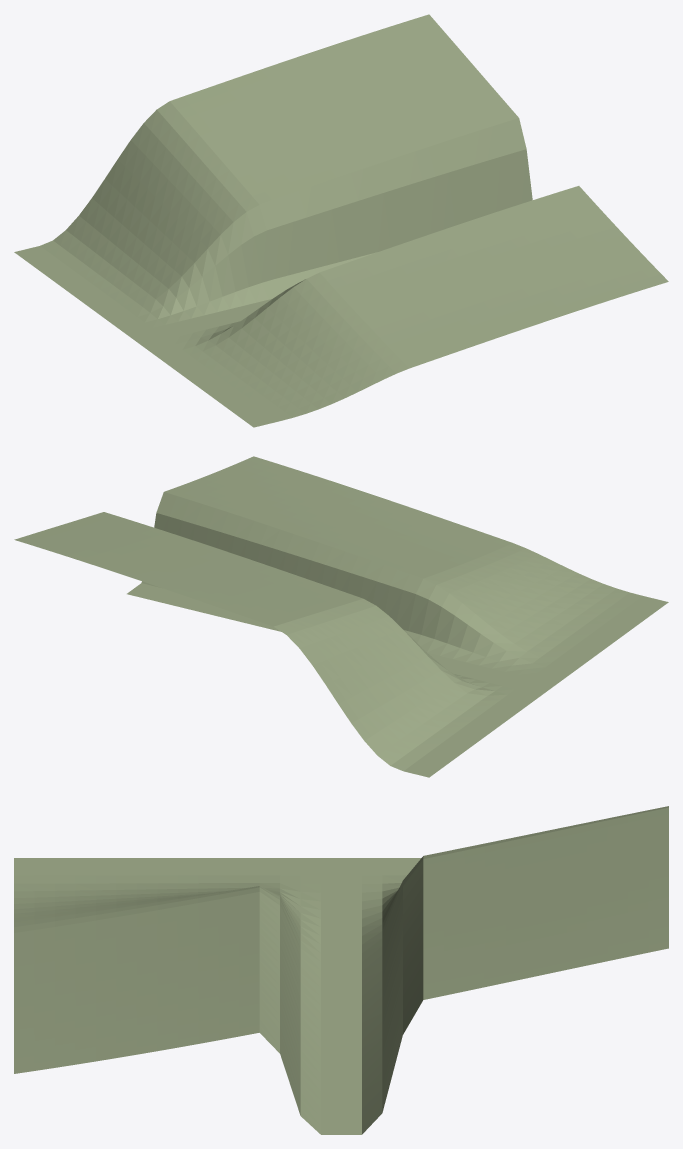
The model's file is valley-14-2.glb.
3 views of the same model, one above another, from view 1: azimuth 30°, elevation 25°; view 2: azimuth 150°, elevation 25°; view 3: azimuth 270°, elevation 25° (orthographic). The views are drawn at different scales.
Visible parts, largest first — view 1: valley-14-2; view 2: valley-14-2; view 3: valley-14-2.
Boxes of the visible parts, bbox=[...] form: valley-14-2: bbox=[14, 14, 668, 427]; valley-14-2: bbox=[14, 456, 668, 777]; valley-14-2: bbox=[14, 806, 668, 1134].
Size of the model in its own units: 256 by 80.42 by 256.
